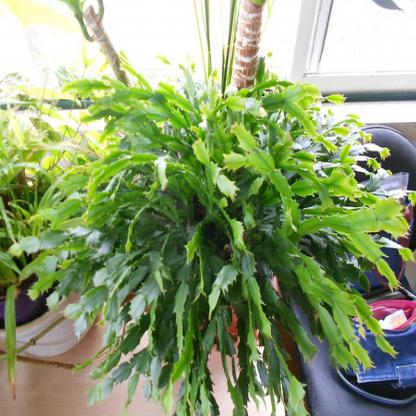Aglonema: (184, 20, 335, 359)
